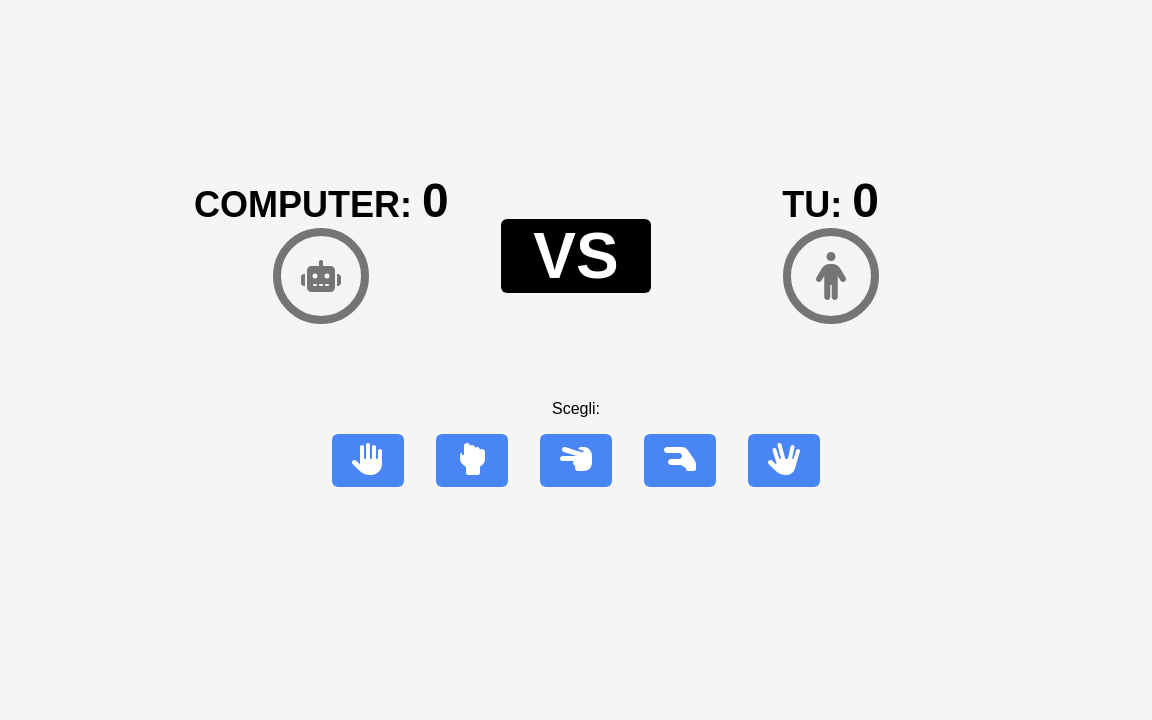
it: Game › should result in a tie between 'carta' and 'carta'
The width and height of the screenshot is (1152, 720).
Click the button with test id "button-carta" at (368, 461), box [332,434,404,487]
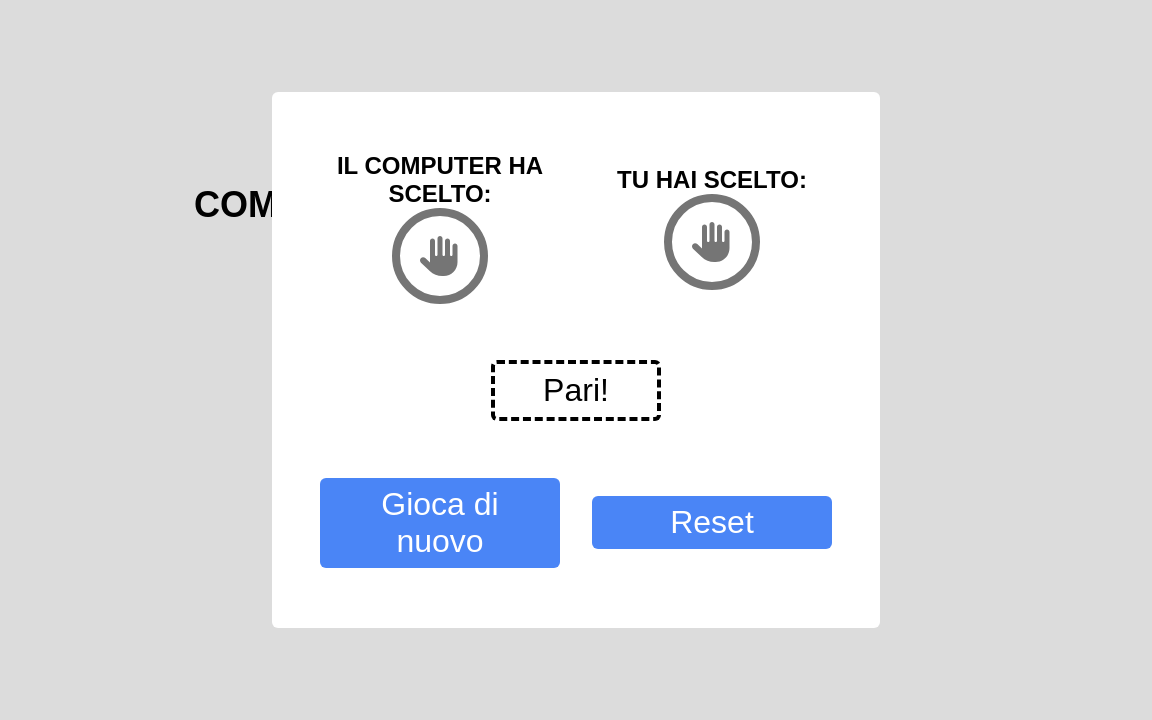
Expected: the dialog with test id "dialog" is shown, [272,92,880,628]
Expected: the text "Pari!" is shown, [491,360,661,422]
